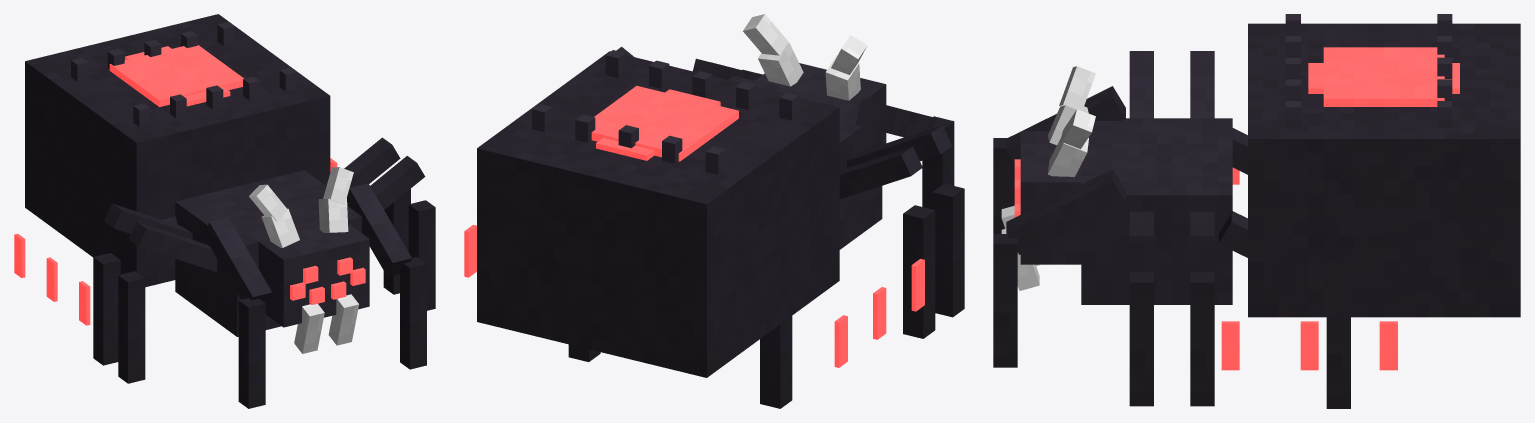
File: spider_evo1.glb
The picture shows the model from 3 angles, left to right: view 1: azimuth 30°, elevation 25°; view 2: azimuth 150°, elevation 25°; view 3: azimuth 270°, elevation 25°; orthographic projection. The views are drawn at different scales.
Visible parts, largest first — view 1: Torso, Head, ArmR, ArmL; view 2: Torso, Head, ArmR, LegR, ArmL; view 3: Torso, Head, ArmL, ArmR, LegL, LegR.
Part boxes in pixels (bbox=[...]): Torso: bbox=[14, 14, 435, 383]; Head: bbox=[246, 167, 369, 353]; ArmR: bbox=[204, 217, 272, 408]; ArmL: bbox=[347, 183, 426, 369]; Torso: bbox=[464, 46, 964, 377]; Head: bbox=[743, 14, 886, 144]; ArmR: bbox=[855, 99, 954, 209]; LegR: bbox=[760, 316, 792, 408]; ArmL: bbox=[693, 58, 762, 80]; Torso: bbox=[1081, 14, 1520, 406]; Head: bbox=[1001, 66, 1105, 290]; ArmL: bbox=[993, 169, 1125, 367]; ArmR: bbox=[993, 86, 1125, 233]; LegL: bbox=[1218, 211, 1350, 408]; LegR: bbox=[1232, 128, 1247, 174].
Size of the model in its own units: 1.47 by 1.07 by 1.74.
Materials: 10 (10 with a texture image).
